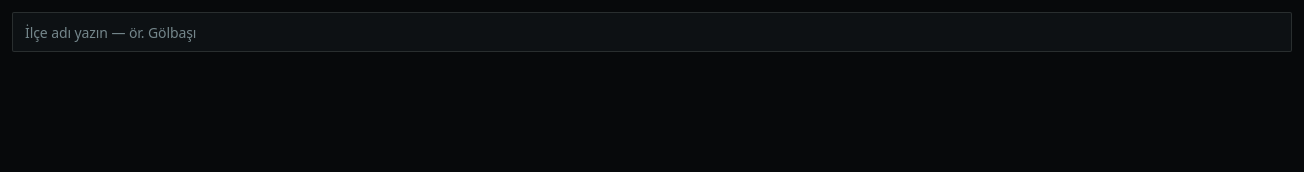
Test case: LocationTypeahead › yazılan metne göre öneri gösteriyor
This screenshot has width=1304, height=172.
Type "gölb" into the search field.
click(652, 32); type("gölb")  # box [12,12,1292,52]
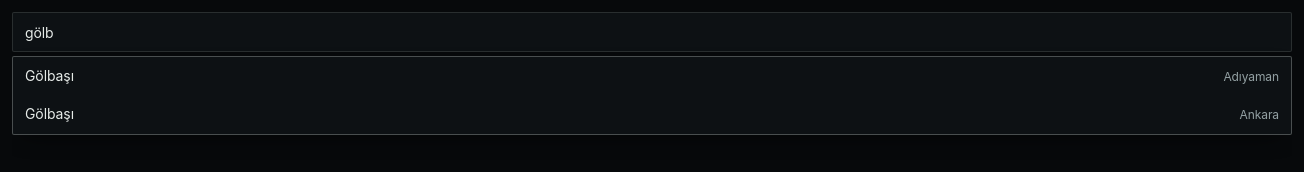
Result: the text "Gölbaşı" is shown 2 times at [25,67,74,84]; [25,105,74,122]
Result: the text "Ankara" is shown at [1240,106,1279,124]
Result: the text "Adıyaman" is shown at [1223,68,1279,85]
